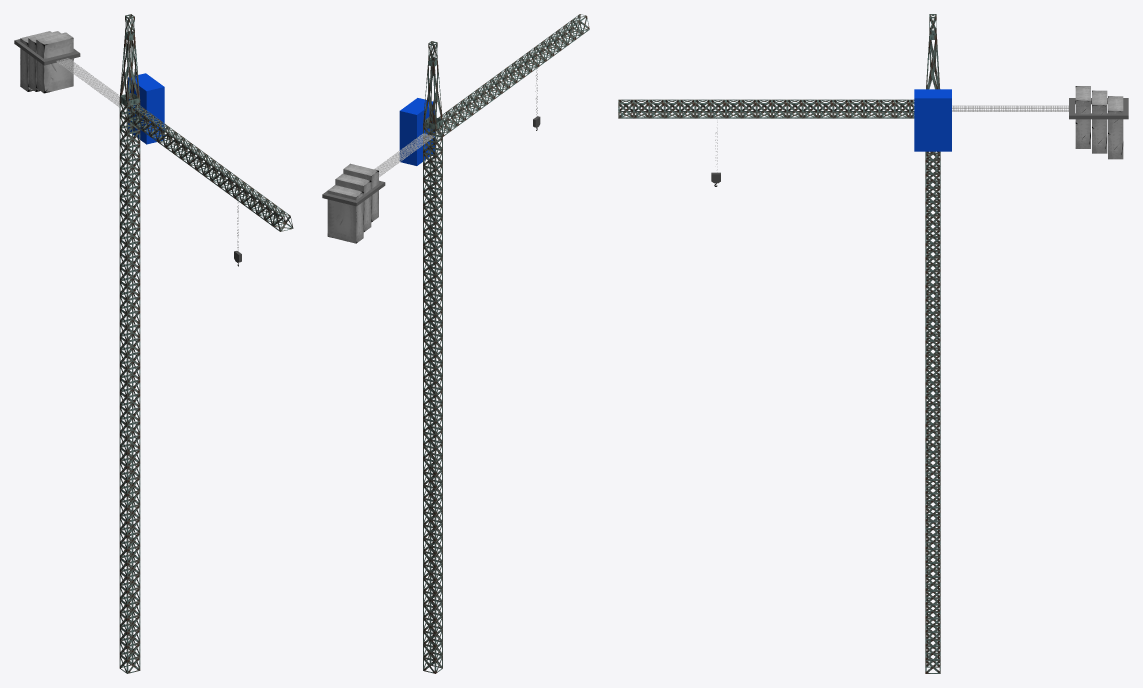
File: GRUE.fbx
3 renders of one model, left to right at view 1: azimuth 30°, elevation 25°; view 2: azimuth 150°, elevation 25°; view 3: azimuth 270°, elevation 25°, orthographic. The views are drawn at different scales.
Visible parts, largest first — view 1: GRUE; view 2: GRUE; view 3: GRUE.
Boxes of the visible parts, x1=… form: GRUE: x1=14, y1=14, x2=293, y2=673; GRUE: x1=322, y1=14, x2=589, y2=673; GRUE: x1=618, y1=14, x2=1128, y2=673.
Bounding box in the file's own units: 9.06 × 131 × 92.22.
